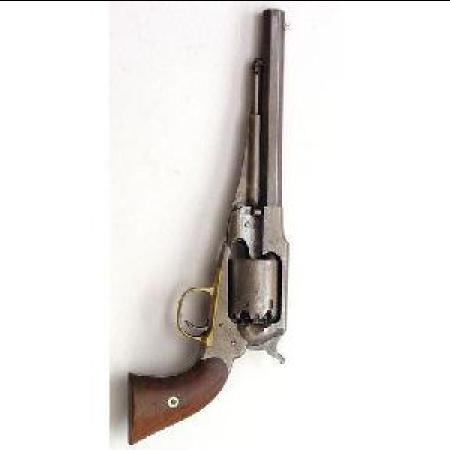Pistol: (129, 11, 295, 446)
